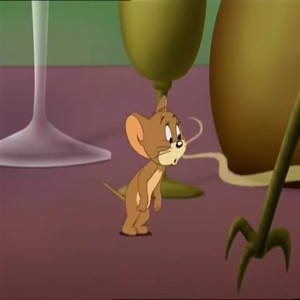Jerry: (117, 94, 188, 244)
